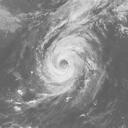cyclone: (37, 35, 89, 90)
